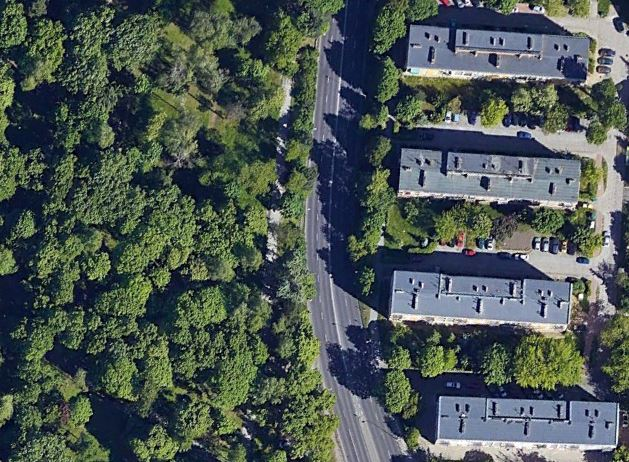block of flats: (395, 144, 584, 215), (390, 268, 575, 339), (402, 19, 594, 87), (435, 391, 620, 452)
